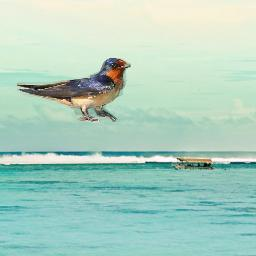Swallow: (17, 58, 131, 122)
